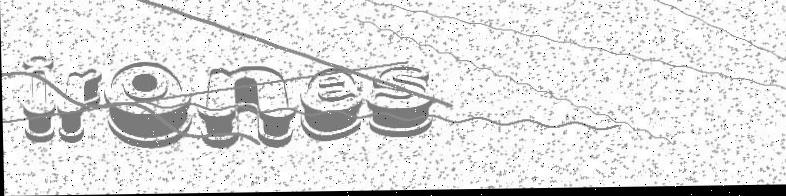e: (297, 62, 365, 148)
i: (15, 46, 62, 148)
n: (195, 65, 299, 151)
o: (101, 56, 196, 151)
r: (58, 67, 106, 150)
s: (366, 62, 439, 144)
